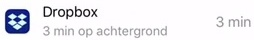name: (39, 4, 103, 22)
time: (41, 25, 77, 39)
